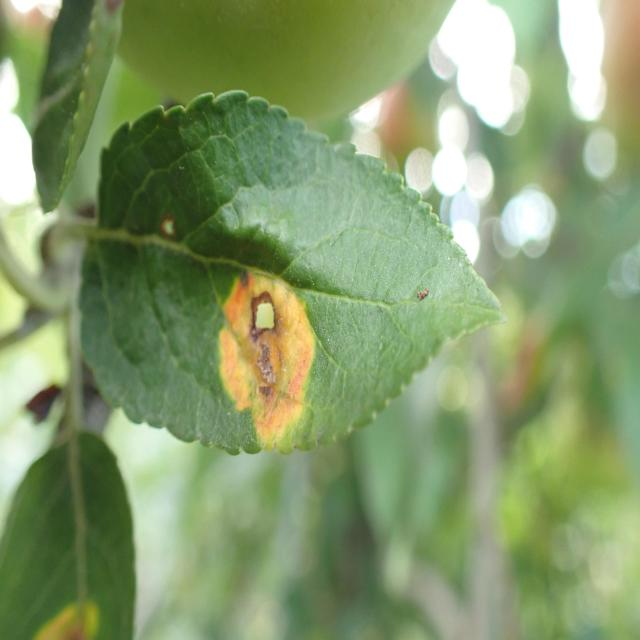rust: (77, 90, 508, 457)
